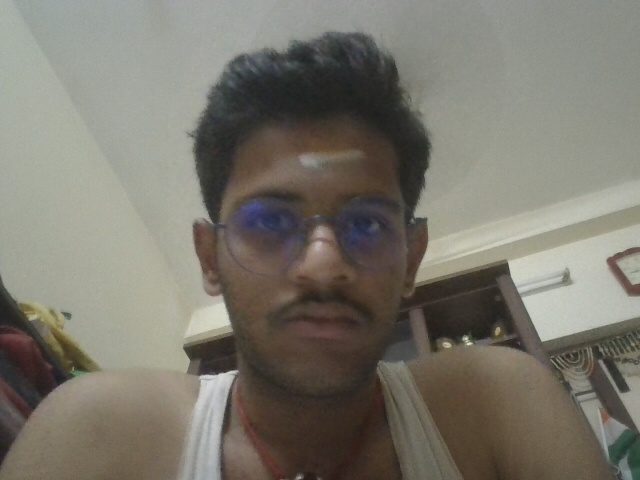real: (193, 122, 448, 377)
